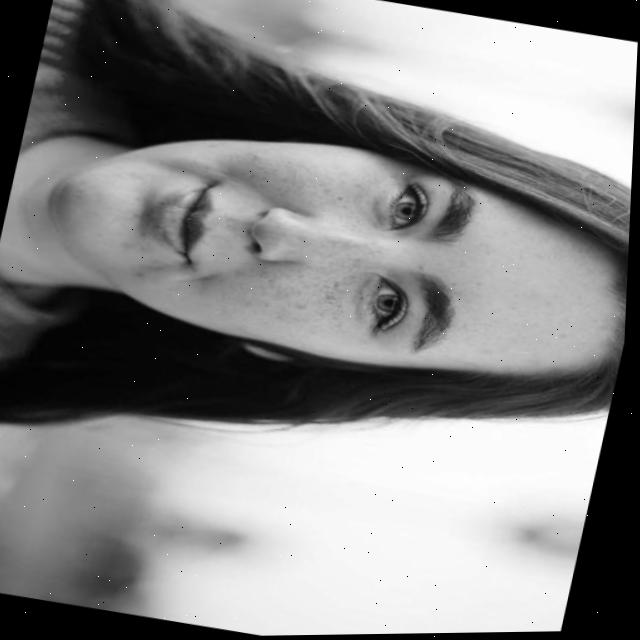Rosacea: (265, 140, 363, 219), (279, 264, 339, 323)
